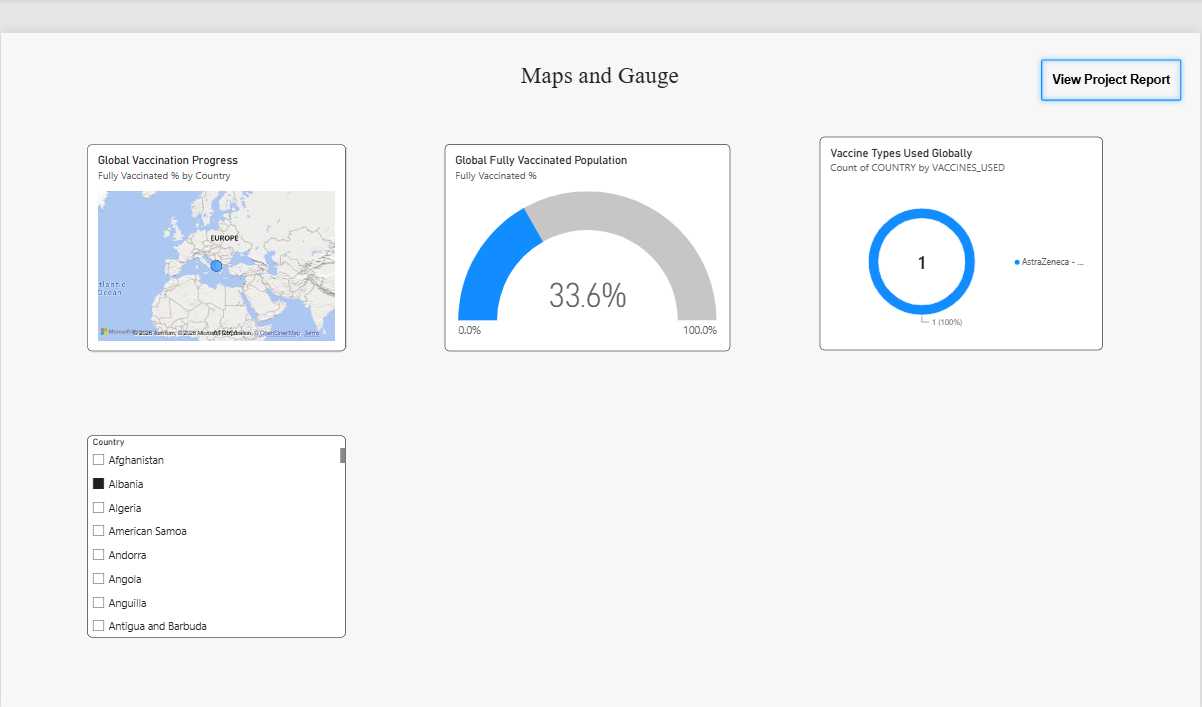

This screenshot's page, from the dashboard's own definition file:
{"tool":"powerbi","page":{"name":"Vaccination Overview","canvas":[1920,1080],"ordinal":1},"visuals":[{"type":"map","title":"Global Vaccination Progress","fields":{"Category":["Dim_Country.Country"],"Size":["Vaccination.Fully Vaccinated %"]},"box":[137.9,177,413.7,331.4],"z":0},{"type":"gauge","title":"Global Fully Vaccinated Population","fields":{"Y":["Vaccination.Fully Vaccinated %"]},"box":[710.1,177,456.9,331.4],"z":1000},{"type":"textbox","box":[808.9,45.3,300.5,61.7],"z":2000},{"type":"donutChart","title":"Vaccine Types Used Globally","fields":{"Category":["Vaccination.VACCINES_USED"],"Y":["CountNonNull(Vaccination.COUNTRY)"]},"box":[1309.1,166.7,452.8,341.7],"z":3000},{"type":"slicer","fields":{"Values":["Dim_Country.Country"]},"box":[137.9,644.3,413.7,323.2],"z":4000},{"type":"actionButton","box":[1657,35,240.8,82.3],"z":5000}]}

Visuals, with their boxes in screenshot pixels (x1, y1, x2, y2):
"Global Vaccination Progress" map: [88,144,344,348]
"Global Fully Vaccinated Population" gauge: [442,144,724,348]
textbox: [503,62,688,100]
"Vaccine Types Used Globally" donutChart: [811,137,1091,348]
slicer - Dim_Country.Country: [88,432,344,632]
actionButton: [1026,56,1175,107]
